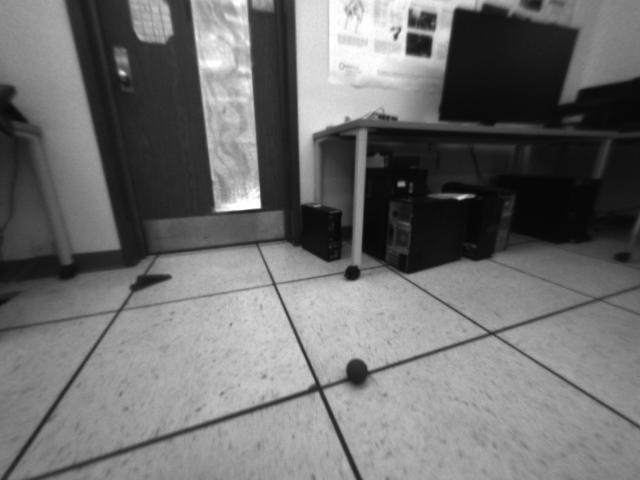dogtoy: (338, 352, 376, 392)
